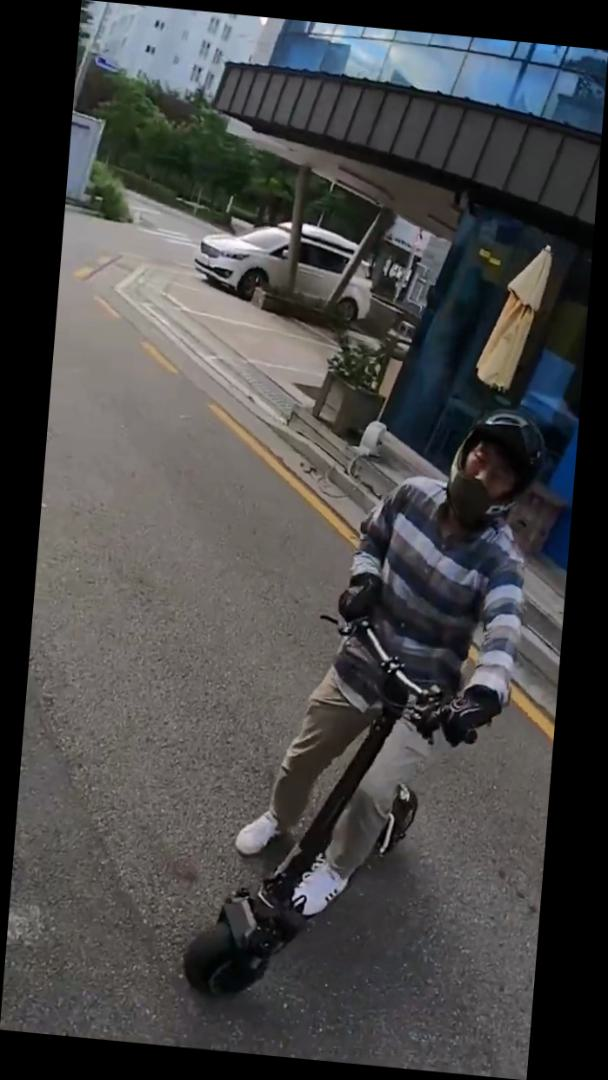helmet: (175, 381, 557, 1032)
